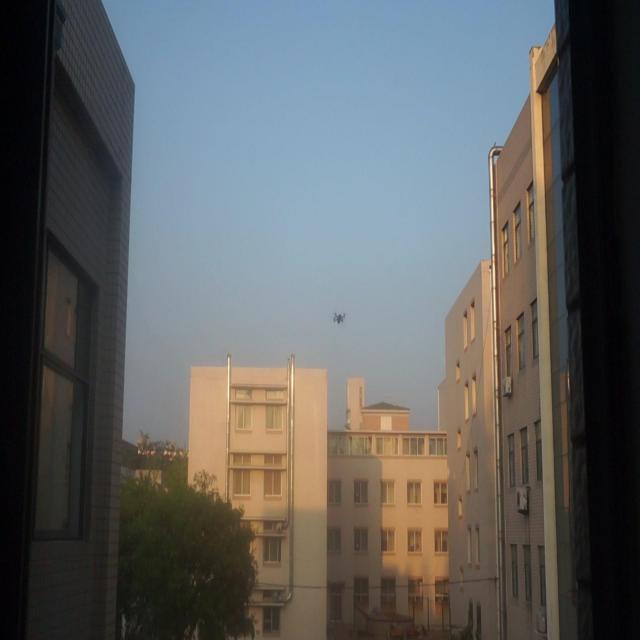UAV: (334, 312, 346, 324)
